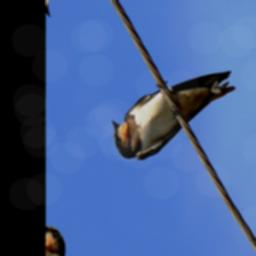Swallow: (104, 4, 239, 211)
